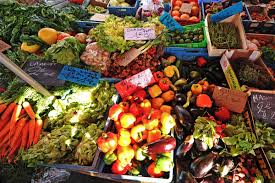carrot: (0, 93, 47, 165)
eggplant: (175, 103, 219, 183)
